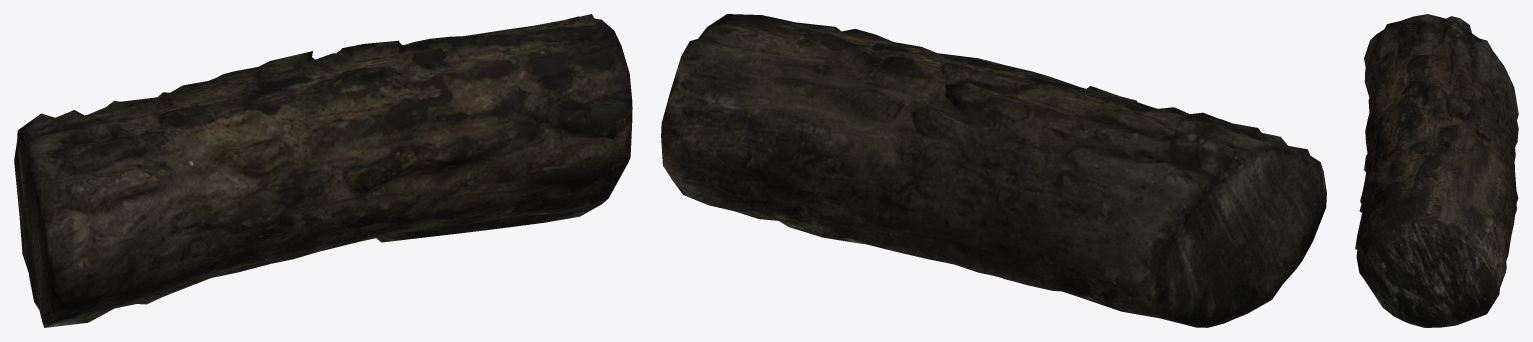
The model's file is firewood_b.glb.
3 renders of one model, left to right at view 1: azimuth 30°, elevation 25°; view 2: azimuth 150°, elevation 25°; view 3: azimuth 270°, elevation 25°, orthographic. The views are drawn at different scales.
Visible parts, largest first — view 1: firewoodB_S_Burnt_Firewood_udtmberiw_lod3_Var1_LOD0; view 2: firewoodB_S_Burnt_Firewood_udtmberiw_lod3_Var1_LOD0; view 3: firewoodB_S_Burnt_Firewood_udtmberiw_lod3_Var1_LOD0.
Boxes of the visible parts, bbox=[...] form: firewoodB_S_Burnt_Firewood_udtmberiw_lod3_Var1_LOD0: bbox=[14, 14, 632, 327]; firewoodB_S_Burnt_Firewood_udtmberiw_lod3_Var1_LOD0: bbox=[661, 14, 1326, 327]; firewoodB_S_Burnt_Firewood_udtmberiw_lod3_Var1_LOD0: bbox=[1355, 14, 1518, 327].
Size of the model in its own units: 0.2904 by 0.0914 by 0.0983.
1 material, 1 textured.
